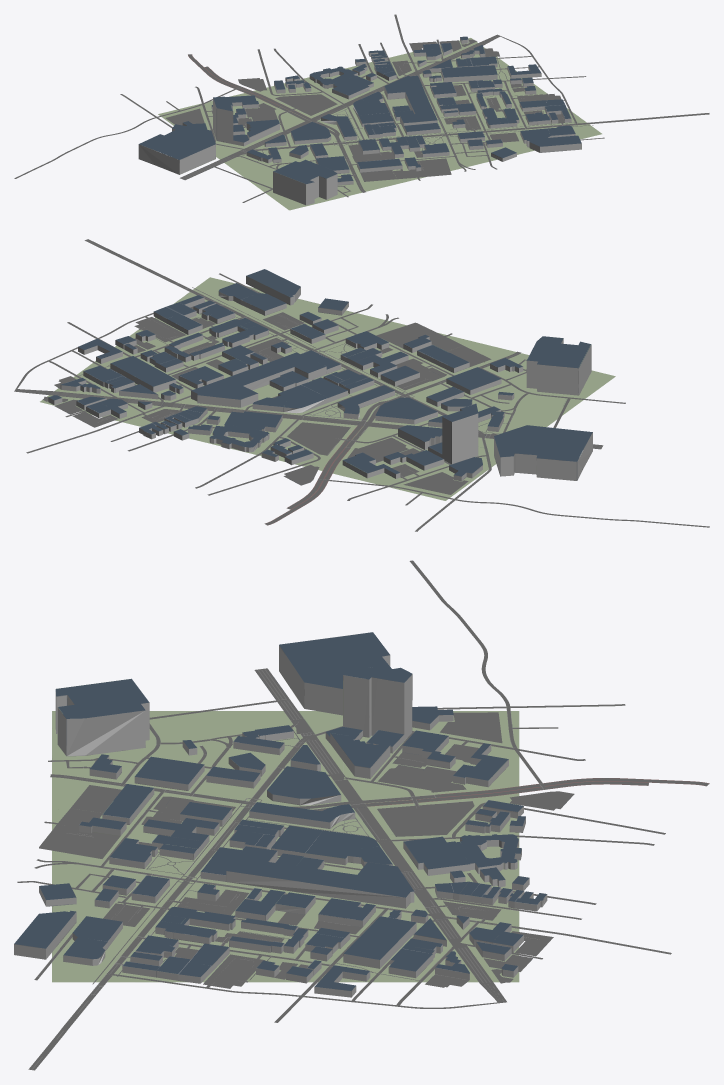
Rendered from map.obj.
3 renders of one model, top to bottom at view 1: azimuth 30°, elevation 25°; view 2: azimuth 150°, elevation 25°; view 3: azimuth 270°, elevation 25°, orthographic. The views are drawn at different scales.
Parts seen in each view (by area): view 1: Road335; view 2: Road335; view 3: Road335.
Boxes of the visible parts, box(x1,y1,x2,y2) form: Road335: box(14, 14, 709, 210); Road335: box(14, 239, 709, 531); Road335: box(14, 560, 709, 1070).
Size of the model in its own units: 1240 by 69 by 715.
1 material, 1 textured.
